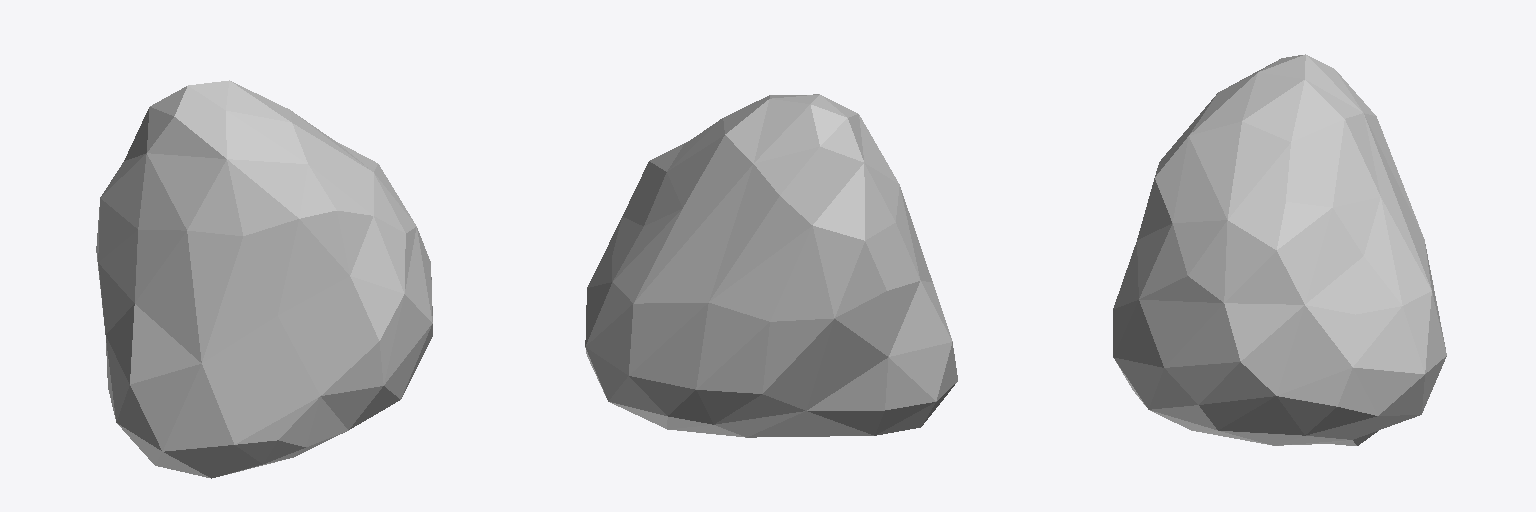
File: Rock_3_G_Color1.obj
The picture shows the model from 3 angles: view 1: azimuth 30°, elevation 25°; view 2: azimuth 150°, elevation 25°; view 3: azimuth 270°, elevation 25°; orthographic projection.
Parts seen in each view (by area): view 1: Rock_3_G_Color1; view 2: Rock_3_G_Color1; view 3: Rock_3_G_Color1.
Boxes of the visible parts, <box> form: Rock_3_G_Color1: <box>96,80,432,478</box>; Rock_3_G_Color1: <box>585,94,957,437</box>; Rock_3_G_Color1: <box>1113,54,1446,445</box>.
Bounding box in the file's own units: 1.86 × 2 × 1.73.